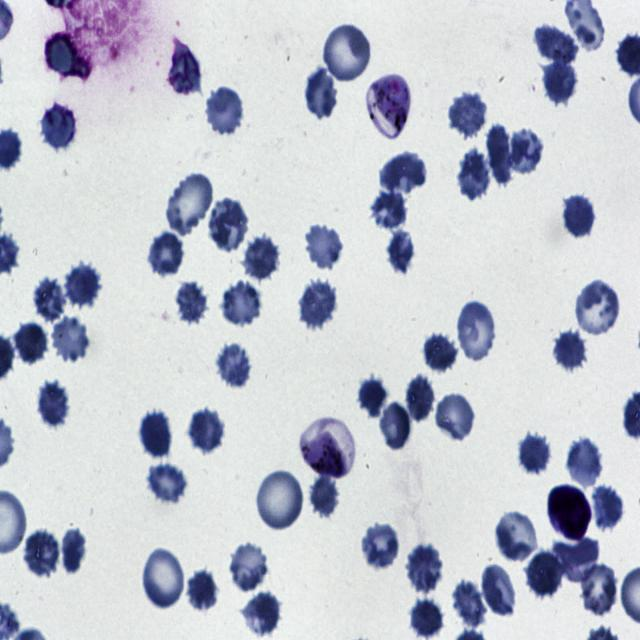difficult: (304, 417, 356, 478)
leukocyte: (546, 480, 593, 540)
red blood cell: (322, 20, 374, 85), (255, 467, 306, 532), (168, 170, 215, 235), (574, 277, 622, 339), (141, 546, 186, 611), (379, 148, 427, 201), (456, 300, 496, 363), (493, 510, 539, 564), (552, 537, 600, 583), (226, 542, 270, 592), (48, 314, 92, 364), (208, 199, 249, 252), (40, 98, 80, 152), (580, 562, 618, 618), (22, 528, 62, 581), (221, 278, 264, 327), (296, 278, 338, 328), (206, 84, 244, 139), (144, 460, 189, 506), (567, 437, 605, 491), (436, 392, 476, 443), (446, 92, 488, 140), (526, 548, 564, 601), (456, 149, 494, 202), (507, 125, 547, 175), (304, 220, 344, 270), (481, 564, 518, 618), (168, 38, 203, 95), (360, 522, 401, 570), (188, 405, 226, 456), (534, 24, 580, 66), (138, 408, 175, 460), (146, 229, 186, 277), (31, 278, 70, 327), (403, 370, 437, 426), (560, 192, 598, 242), (241, 234, 281, 281), (304, 64, 338, 119), (242, 590, 282, 636), (407, 542, 443, 592), (452, 578, 486, 630), (212, 341, 251, 386), (514, 431, 552, 477), (13, 320, 49, 368), (543, 54, 578, 103), (378, 402, 412, 452), (591, 481, 624, 530), (548, 330, 588, 370), (370, 187, 406, 231), (487, 124, 512, 187), (64, 262, 98, 308), (173, 276, 207, 321), (408, 598, 444, 639), (38, 381, 69, 426), (357, 375, 388, 420), (186, 569, 218, 612), (385, 228, 414, 275), (44, 34, 76, 76), (423, 334, 459, 371), (310, 474, 338, 520), (60, 530, 87, 576)
trophozoite: (367, 72, 412, 141)
